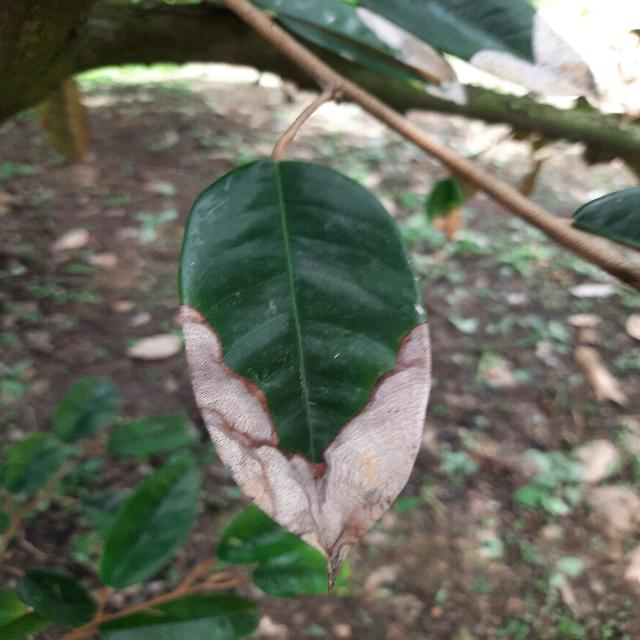Leaf Blight: (171, 145, 442, 597)
